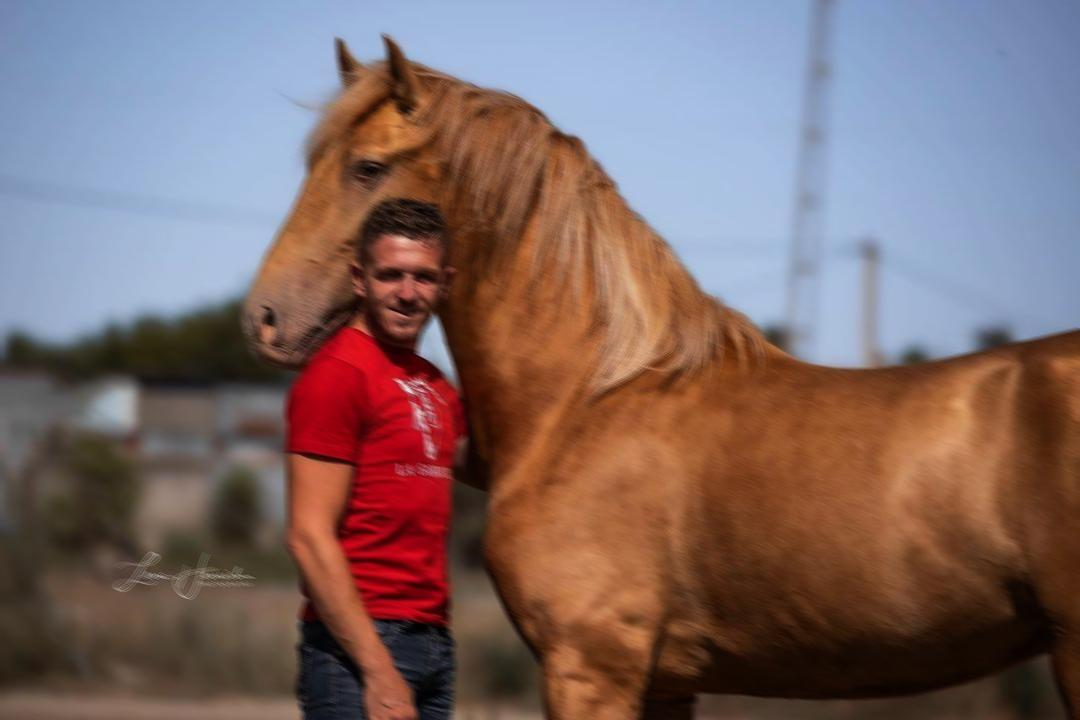horse: (238, 31, 1079, 718)
